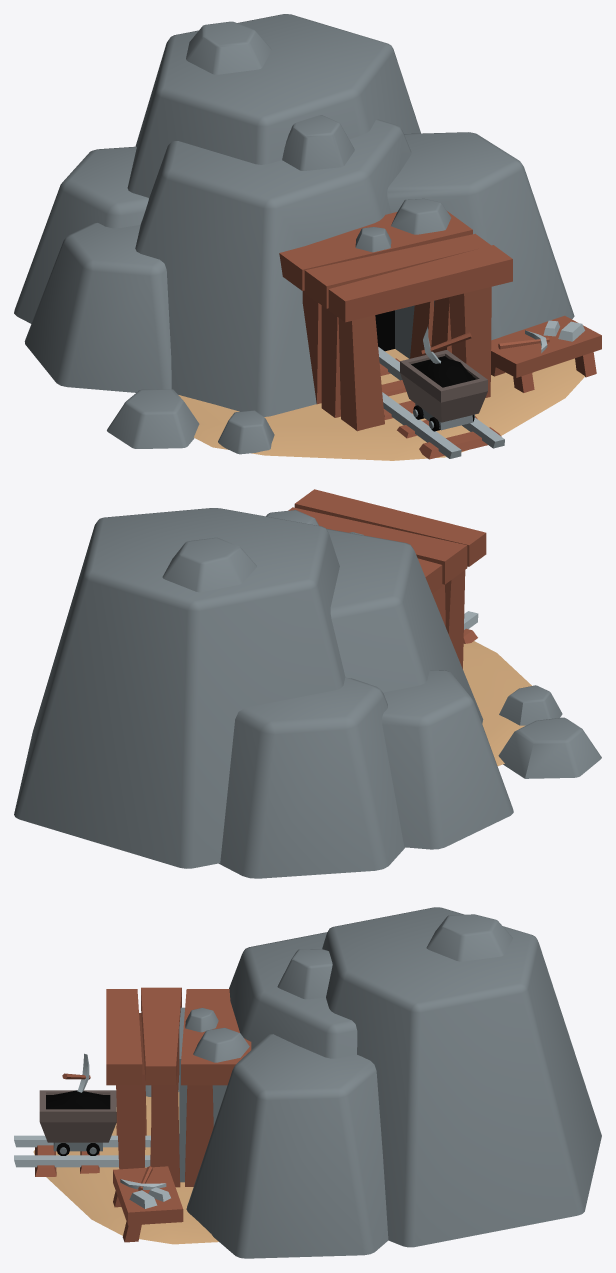
File: mine.glb
3 renders of one model, top to bottom at view 1: azimuth 30°, elevation 25°; view 2: azimuth 150°, elevation 25°; view 3: azimuth 270°, elevation 25°, orthographic. The views are drawn at different scales.
Parts seen in each view (by area): view 1: mine; view 2: mine; view 3: mine.
Part boxes in pixels (<box>): mine: <box>14,14,601,460</box>; mine: <box>14,489,601,878</box>; mine: <box>14,907,601,1258</box>.
Bounding box in the file's own units: 1.61 × 0.8294 × 1.88.
